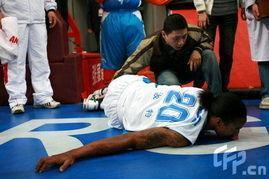Fall-Detected: (32, 61, 243, 168)
